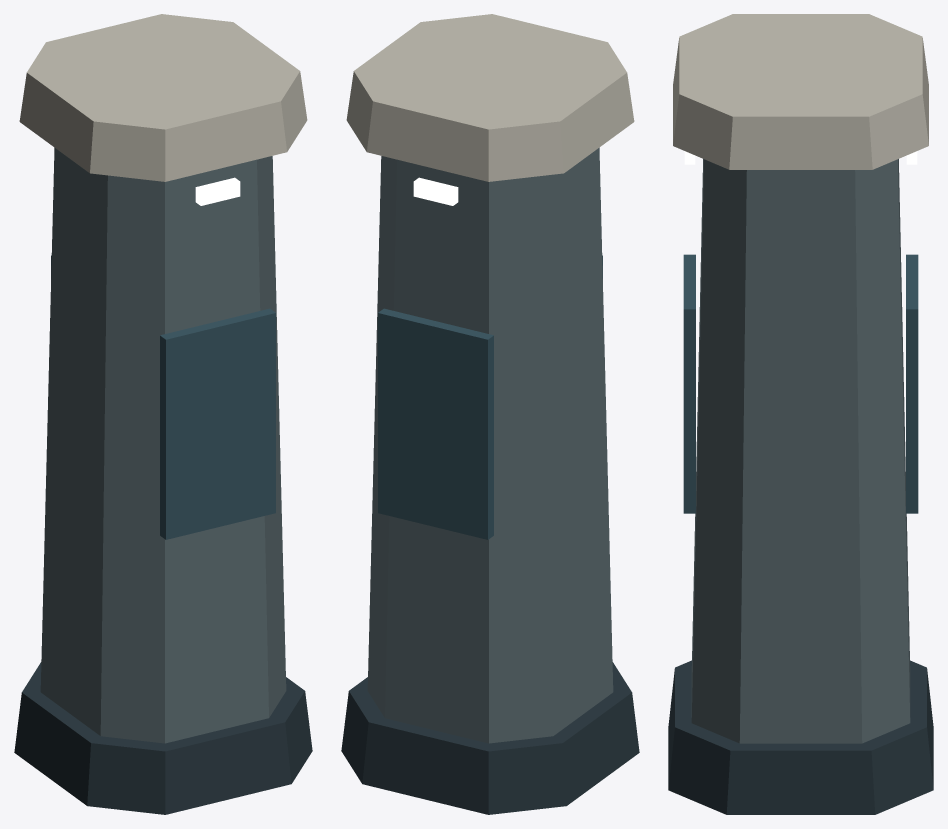
Rendered from wall_t1_post.glb.
3 views of the same model, side by side, from view 1: azimuth 30°, elevation 25°; view 2: azimuth 150°, elevation 25°; view 3: azimuth 270°, elevation 25° (orthographic).
Parts seen in each view (by area): view 1: body, glow; view 2: body, glow; view 3: body.
Boxes of the visible parts, x1,y1,x2,y2 form: body: [14, 14, 312, 814]; glow: [195, 177, 240, 205]; body: [341, 14, 639, 814]; glow: [413, 177, 458, 205]; body: [668, 14, 933, 814].
Bounding box in the file's own units: 0.86 × 2.48 × 0.86.
